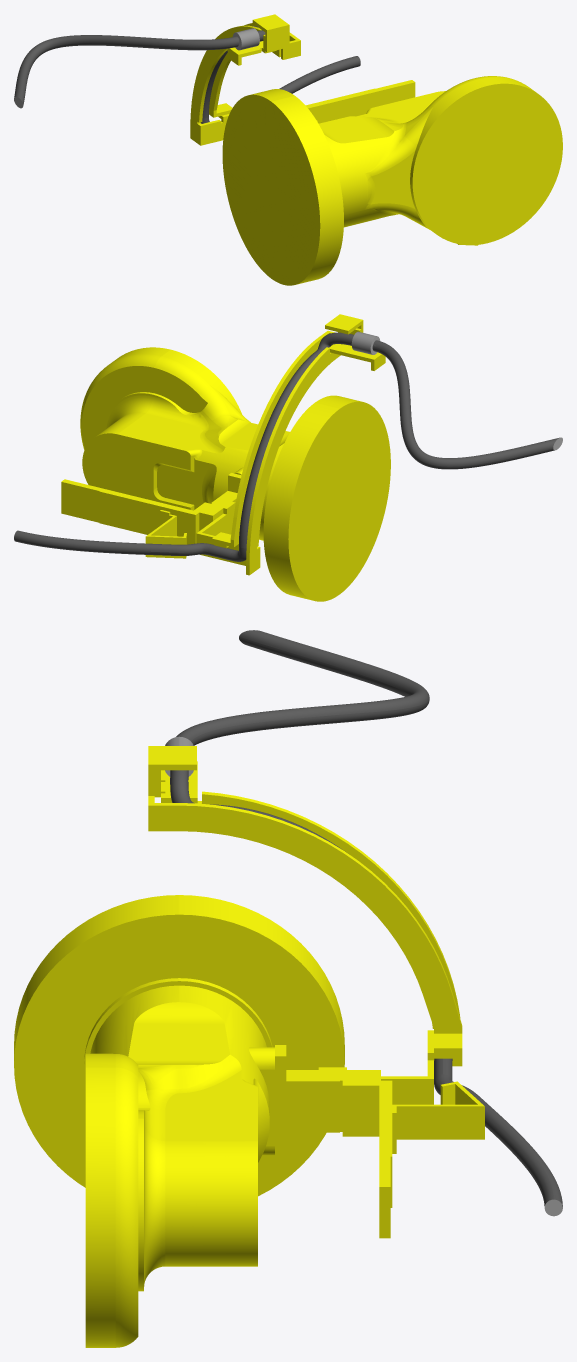
The picture shows the model from 3 angles, top to bottom: view 1: azimuth 30°, elevation 25°; view 2: azimuth 150°, elevation 25°; view 3: azimuth 270°, elevation 25°; orthographic projection. The views are drawn at different scales.
Parts seen in each view (by area): view 1: Mesh_0; view 2: Mesh_0; view 3: Mesh_0.
Part boxes in pixels (bbox=[...]): Mesh_0: bbox=[14, 14, 562, 285]; Mesh_0: bbox=[14, 314, 562, 601]; Mesh_0: bbox=[14, 630, 562, 1347].
Bounding box in the file's own units: 0.6836 × 0.3883 × 0.3415.
